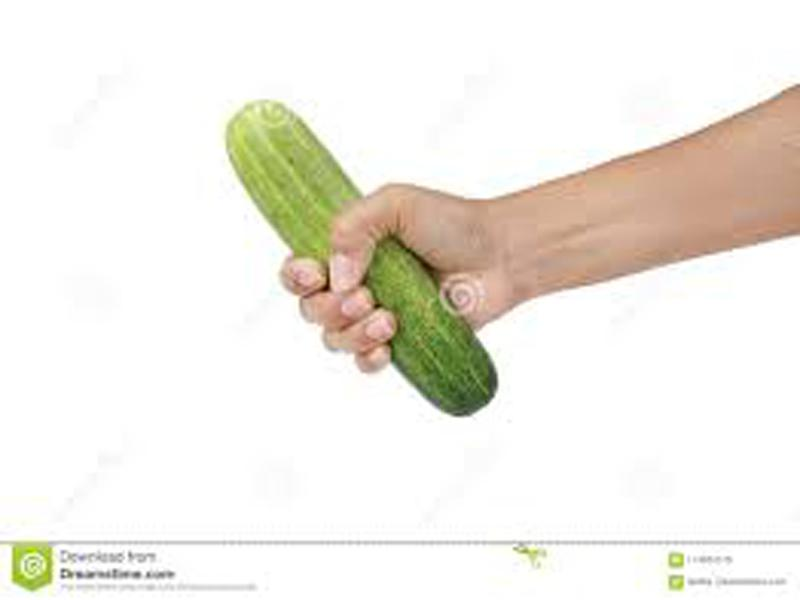Cucumber: (226, 103, 504, 417)
